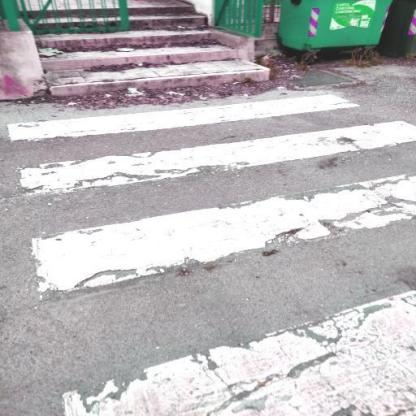crosswalk: (3, 93, 414, 196)
